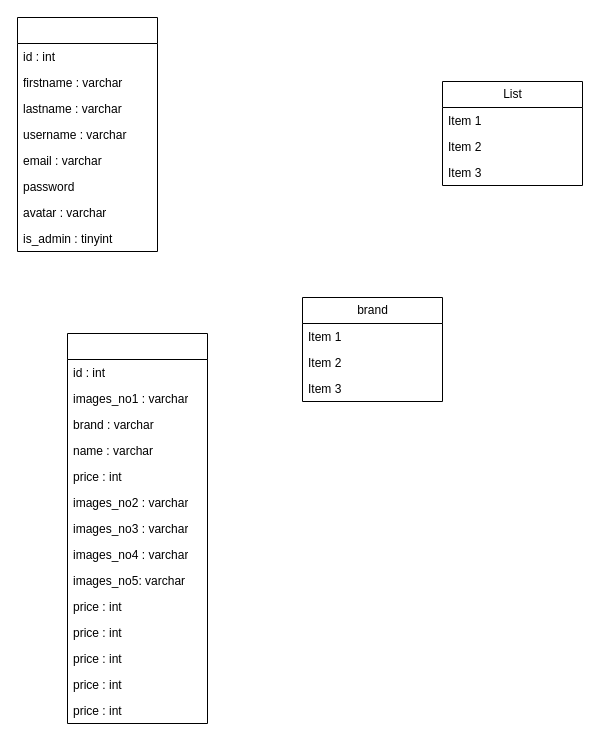
This 600x744 diagram has some shape labels left out. Here are the shapes that lost their labels. From the top down, the box of each, then its label:
(16, 16, 158, 252): users
(66, 332, 208, 724): products
